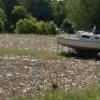Boat: (50, 25, 100, 61)
